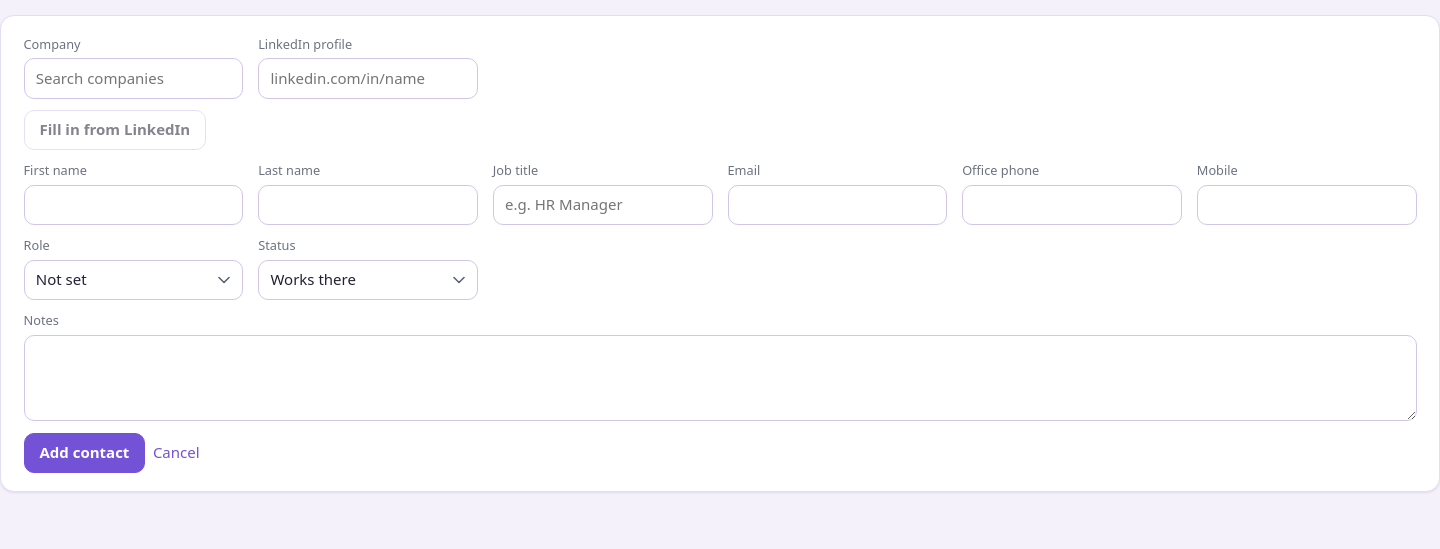
Test: a new contact from LinkedIn › says at once when the email belongs to a contact already
This screenshot has width=1440, height=549.
In the field labelled "Email": (837, 205) [728,184,947,225], type "Aisha@majubank.my"
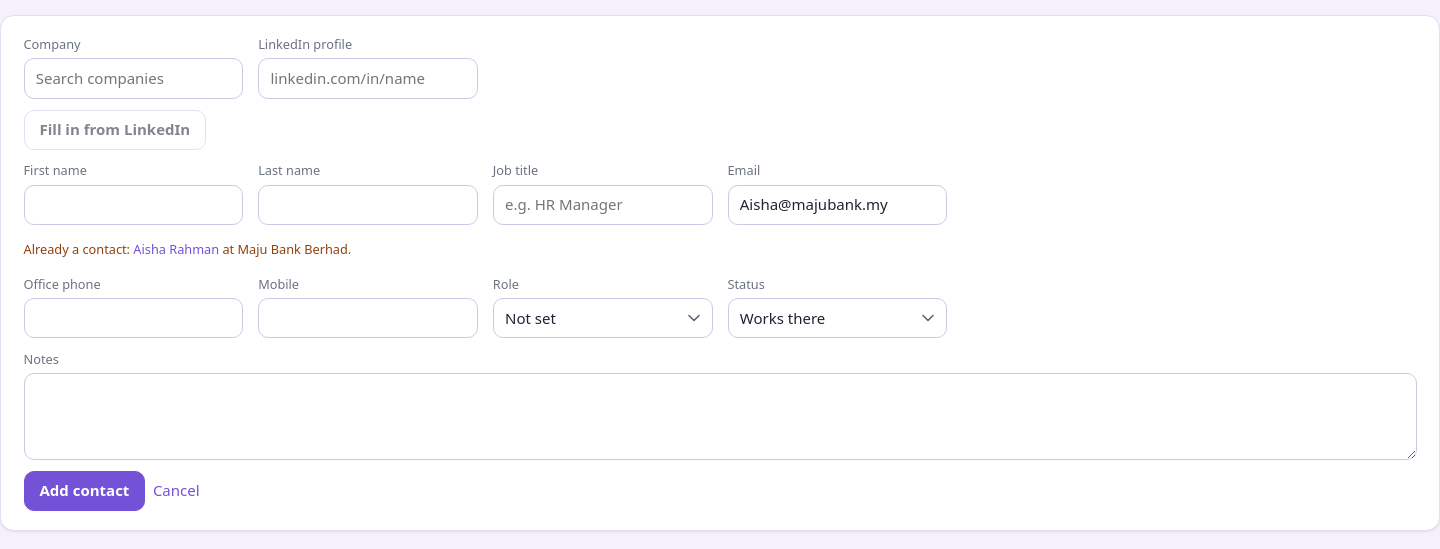
Now the message reads "Already a contact: Aisha Rahman at Maju Bank Berhad.", box [24,240,351,258]
